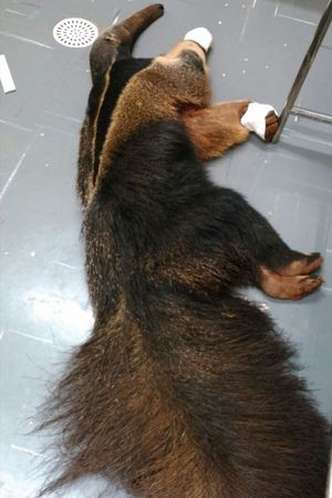TamanduaBandeira: (60, 2, 326, 492)
